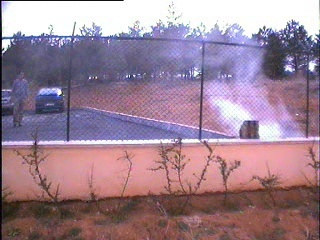smoke: (170, 22, 304, 138)
